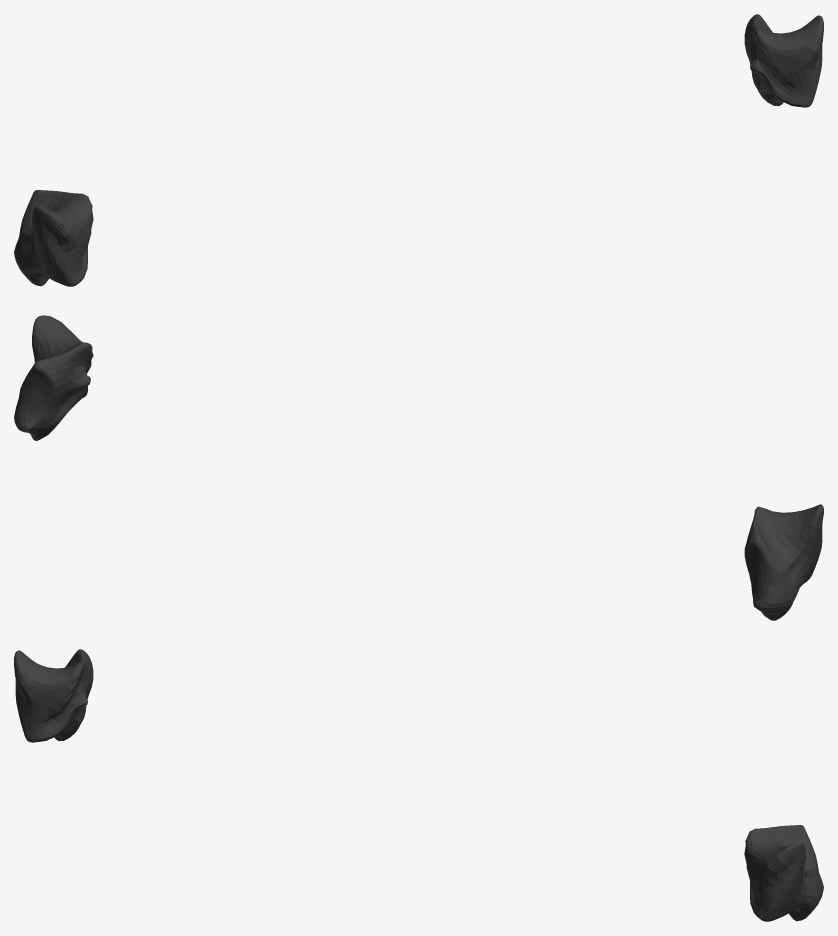
Rendered from b_carpals_ulnar_L_LO.glb.
3 renders of one model, top to bottom at view 1: azimuth 30°, elevation 25°; view 2: azimuth 150°, elevation 25°; view 3: azimuth 330°, elevation 25°, orthographic.
Parts seen in each view (by area): view 1: b_carpals_ulnar_L_LO; view 2: b_carpals_ulnar_L_LO; view 3: b_carpals_ulnar_L_LO.
Part boxes in pixels (left/top/right/bottom): b_carpals_ulnar_L_LO: left=14, top=14, right=823, bottom=286; b_carpals_ulnar_L_LO: left=14, top=315, right=823, bottom=620; b_carpals_ulnar_L_LO: left=14, top=649, right=823, bottom=921.
Bounding box in the file's own units: 0.00341 × 0.000416 × 0.000388.
Materials: 1 (1 with a texture image).
